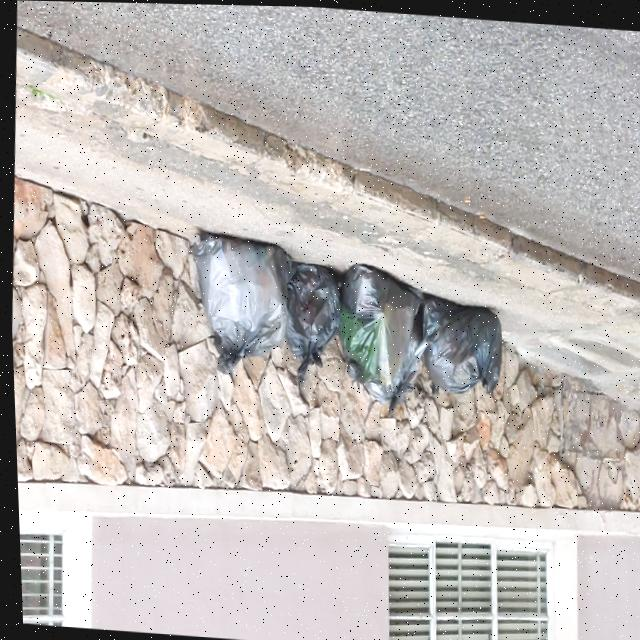Mixed Waste -Black Bag-: (180, 223, 291, 382), (330, 253, 423, 389), (416, 282, 506, 402), (358, 279, 426, 418), (278, 252, 343, 389)
